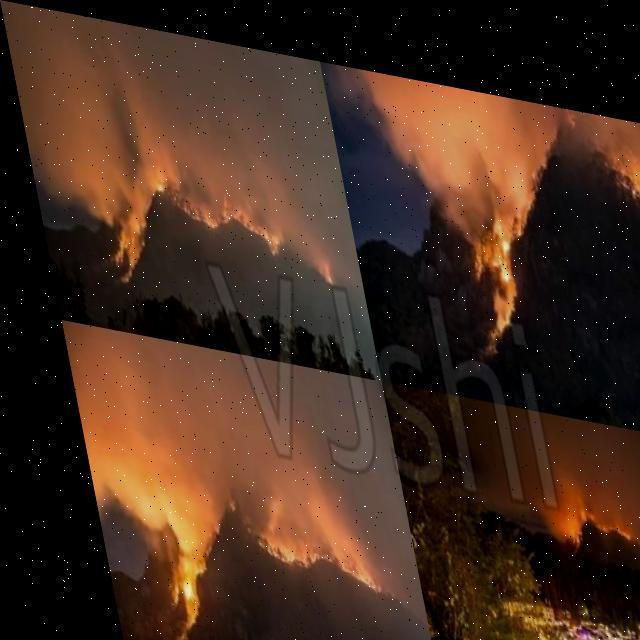Fire: (65, 110, 340, 310), (448, 170, 534, 347), (125, 496, 212, 629), (233, 506, 359, 588)
